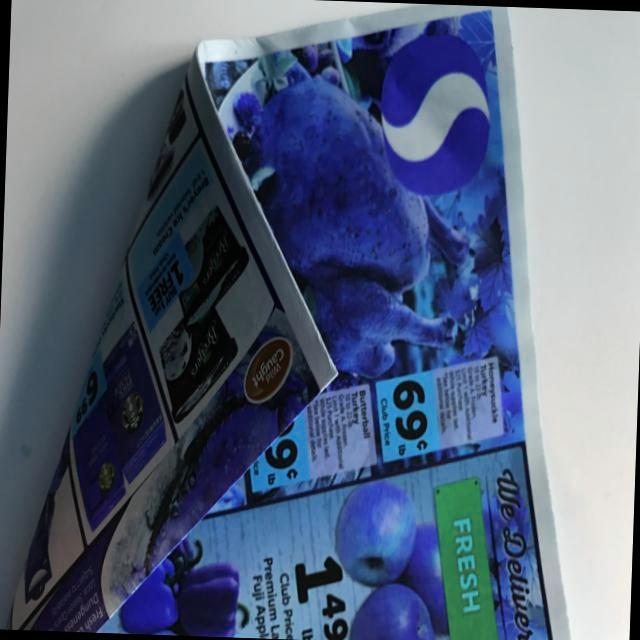paper: (6, 0, 592, 640)
